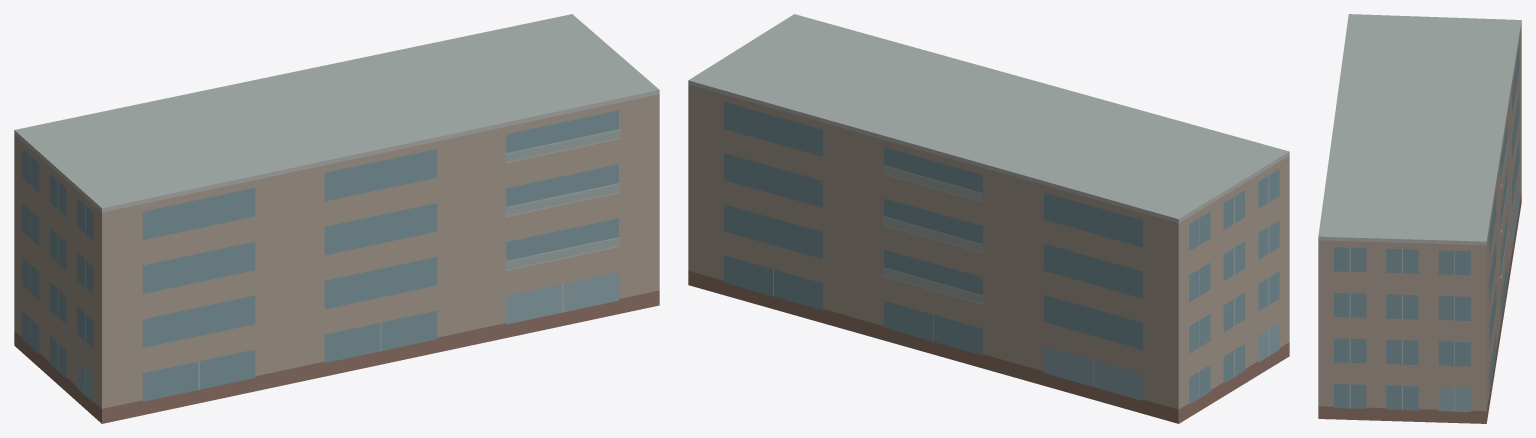
File: survey-upis-32628938.glb
3 views of the same model, side by side, from view 1: azimuth 30°, elevation 25°; view 2: azimuth 150°, elevation 25°; view 3: azimuth 270°, elevation 25° (orthographic). The views are drawn at different scales.
Parts seen in each view (by area): view 1: survey-upis-32628938.tmp; view 2: survey-upis-32628938.tmp; view 3: survey-upis-32628938.tmp.
Part boxes in pixels (x1,y1,x2,y2): survey-upis-32628938.tmp: [14, 14, 659, 423]; survey-upis-32628938.tmp: [688, 14, 1289, 423]; survey-upis-32628938.tmp: [1318, 14, 1521, 423].
Size of the model in its own units: 32.69 by 12.2 by 12.35.
